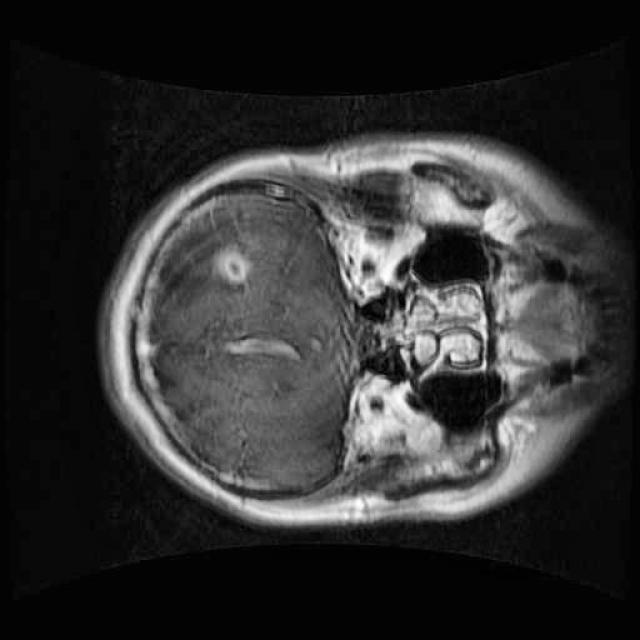Tumor: (202, 228, 268, 300)
